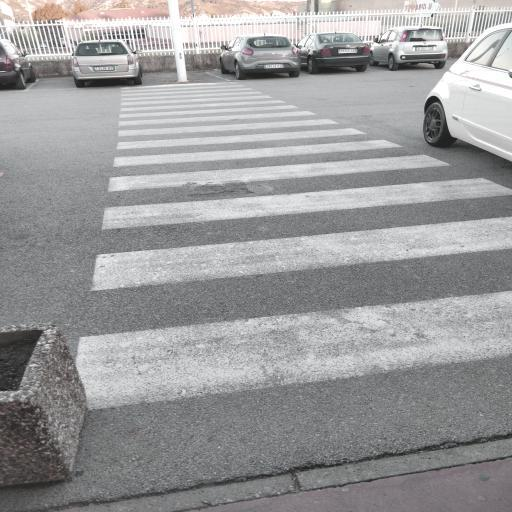crosswalk: (64, 210, 511, 423), (108, 122, 407, 172)
